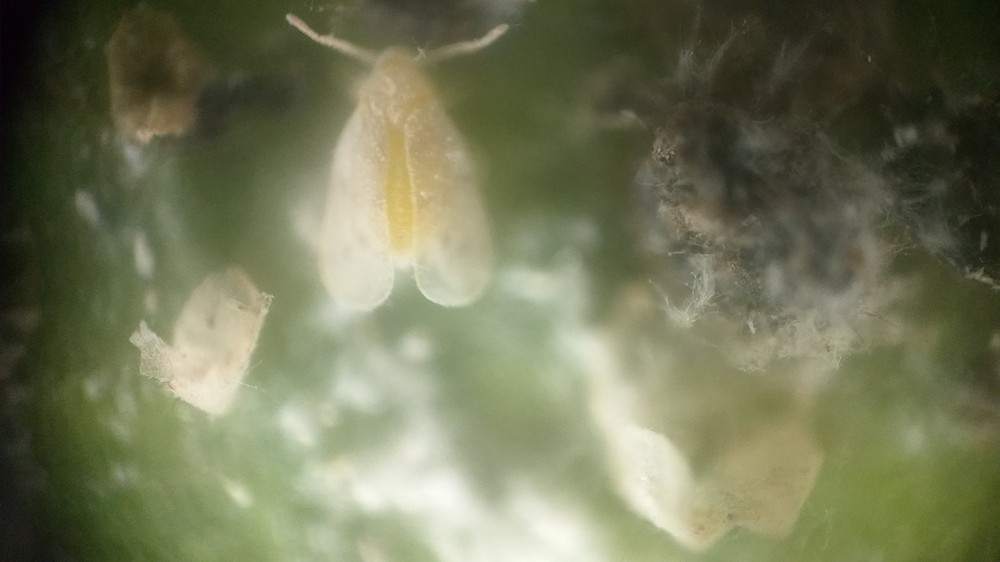Mosca Blanca: (276, 10, 546, 334)
